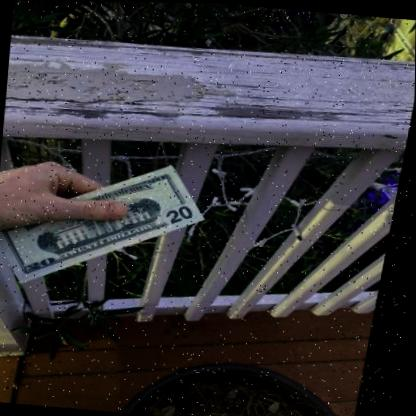twenty-back: (0, 165, 210, 284)
